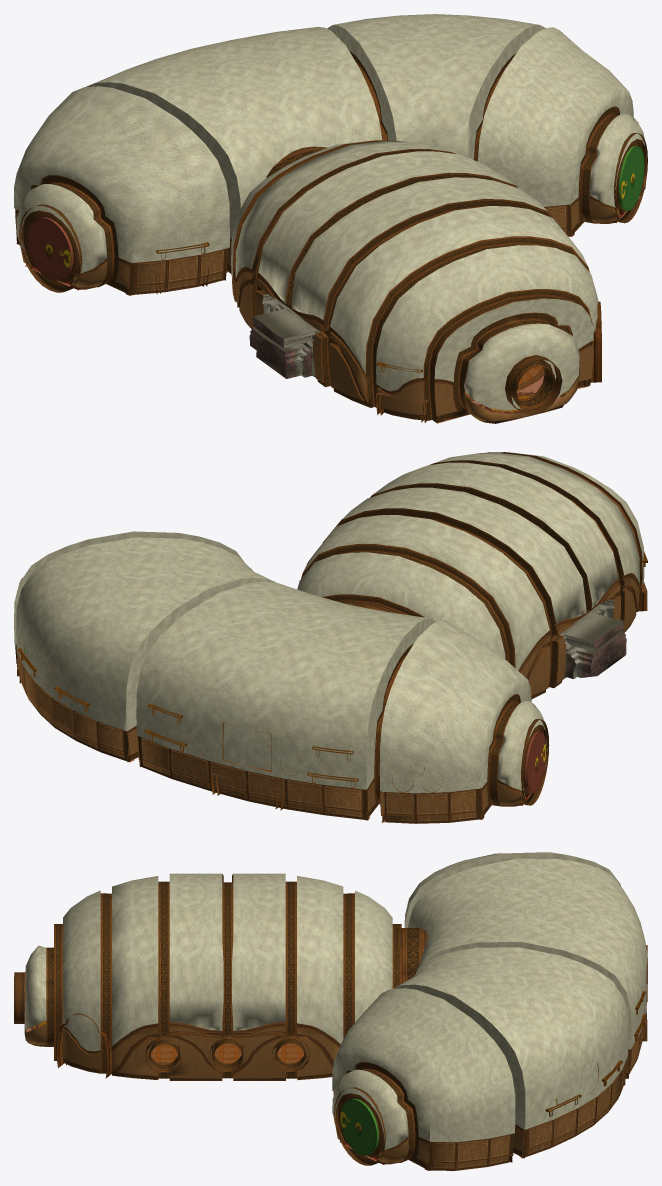
File: BAGENDINTERIOR_BE_BAGEND.fbx
3 renders of one model, top to bottom at view 1: azimuth 30°, elevation 25°; view 2: azimuth 150°, elevation 25°; view 3: azimuth 270°, elevation 25°, orthographic. The views are drawn at different scales.
Visible parts, largest first — view 1: BAGENDINTERIOR_BE_BAGEND; view 2: BAGENDINTERIOR_BE_BAGEND; view 3: BAGENDINTERIOR_BE_BAGEND.
Part boxes in pixels (x1,y1,x2,y2): BAGENDINTERIOR_BE_BAGEND: (14,14,647,423); BAGENDINTERIOR_BE_BAGEND: (14,452,647,823); BAGENDINTERIOR_BE_BAGEND: (14,852,647,1171).
Size of the model in its own units: 118177 by 33307 by 130300.
Materials: 40 (40 with a texture image).
